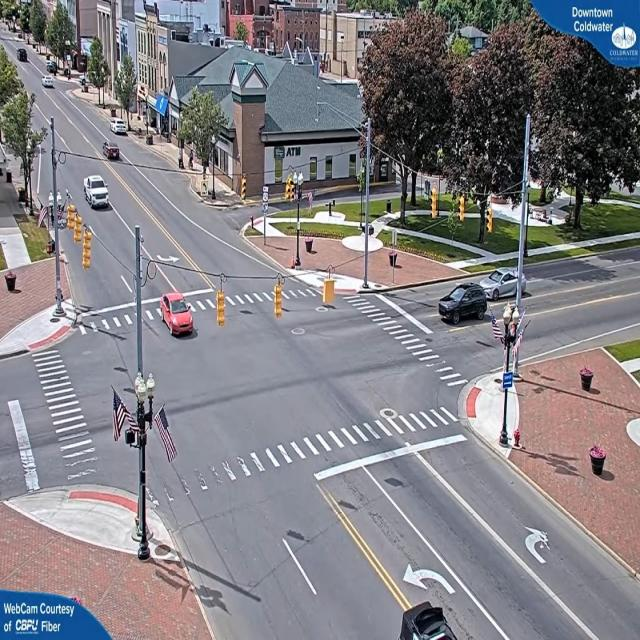car: (439, 285, 489, 326), (158, 293, 195, 337), (482, 271, 530, 304), (84, 175, 110, 211), (104, 142, 122, 159), (111, 120, 129, 135)
